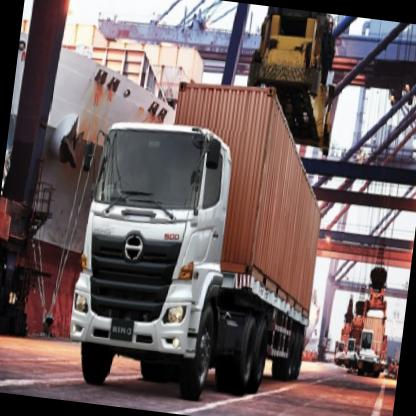truck: (64, 115, 248, 407)
